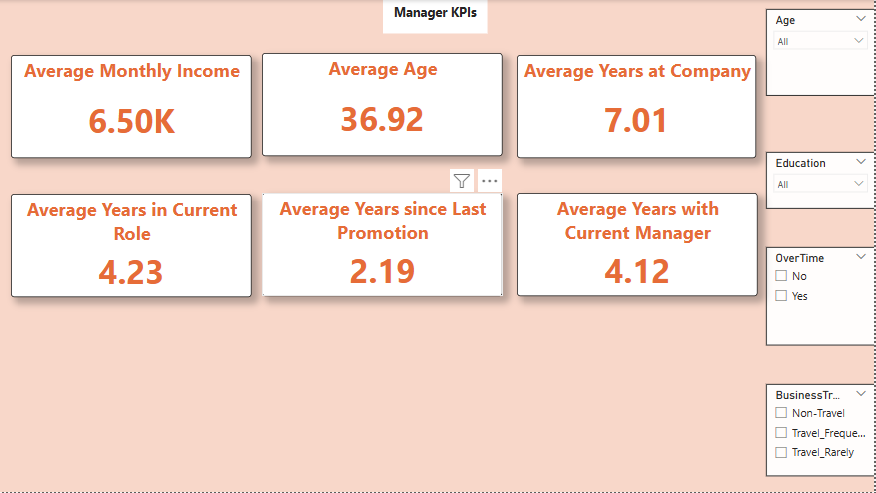

What the dashboard file says about the page in this screenshot:
{"tool":"powerbi","page":{"name":"Manager KPIs","canvas":[1280,720],"ordinal":2},"visuals":[{"type":"slicer","fields":{"Values":["clean_employee_attrition.Age"]},"box":[1120.4,13.9,159.6,126.6],"z":0},{"type":"slicer","fields":{"Values":["clean_employee_attrition.Education"]},"box":[1120.4,222,159.6,83.3],"z":1000},{"type":"slicer","fields":{"Values":["clean_employee_attrition.OverTime"]},"box":[1120.4,360.8,159.6,144],"z":2000},{"type":"slicer","fields":{"Values":["clean_employee_attrition.BusinessTravel"]},"box":[1120.4,562,159.6,135.3],"z":3000},{"type":"card","title":"Average Monthly Income","fields":{"Values":["Avg(clean_employee_attrition.MonthlyIncome)"]},"box":[15.6,79.8,352.1,150.9],"z":4000},{"type":"card","title":"Average Age","fields":{"Values":["Avg(clean_employee_attrition.Age)"]},"box":[383.3,78,352.1,150.9],"z":5000},{"type":"card","title":"Average Years at Company","fields":{"Values":["Avg(clean_employee_attrition.YearsAtCompany)"]},"box":[756.2,79.8,350.4,150.9],"z":6000},{"type":"card","title":"Average Years in Current Role","fields":{"Values":["Avg(clean_employee_attrition.YearsInCurrentRole)"]},"box":[15.6,284.4,352.1,150.9],"z":7000},{"type":"card","title":"Average Years since Last Promotion","fields":{"Values":["Avg(clean_employee_attrition.YearsSinceLastPromotion)"]},"box":[383.3,282.7,352.1,150.9],"z":8000},{"type":"card","title":"Average Years with Current Manager","fields":{"Values":["Avg(clean_employee_attrition.YearsWithCurrManager)"]},"box":[756.2,282.7,352.1,150.9],"z":9000},{"type":"textbox","box":[560.2,0,152.6,48.6],"z":10000}]}

Visuals, with their boxes in screenshot pixels (x1, y1, x2, y2), scaled from the page's 1280x720 canvas onto the 876x493 screenshot:
slicer - clean_employee_attrition.Age: 767/10/875/96
slicer - clean_employee_attrition.Education: 767/152/875/209
slicer - clean_employee_attrition.OverTime: 767/247/875/346
slicer - clean_employee_attrition.BusinessTravel: 767/385/875/477
"Average Monthly Income" card: 11/55/252/158
"Average Age" card: 262/53/503/157
"Average Years at Company" card: 518/55/757/158
"Average Years in Current Role" card: 11/195/252/298
"Average Years since Last Promotion" card: 262/194/503/297
"Average Years with Current Manager" card: 518/194/758/297
textbox: 383/0/488/33
